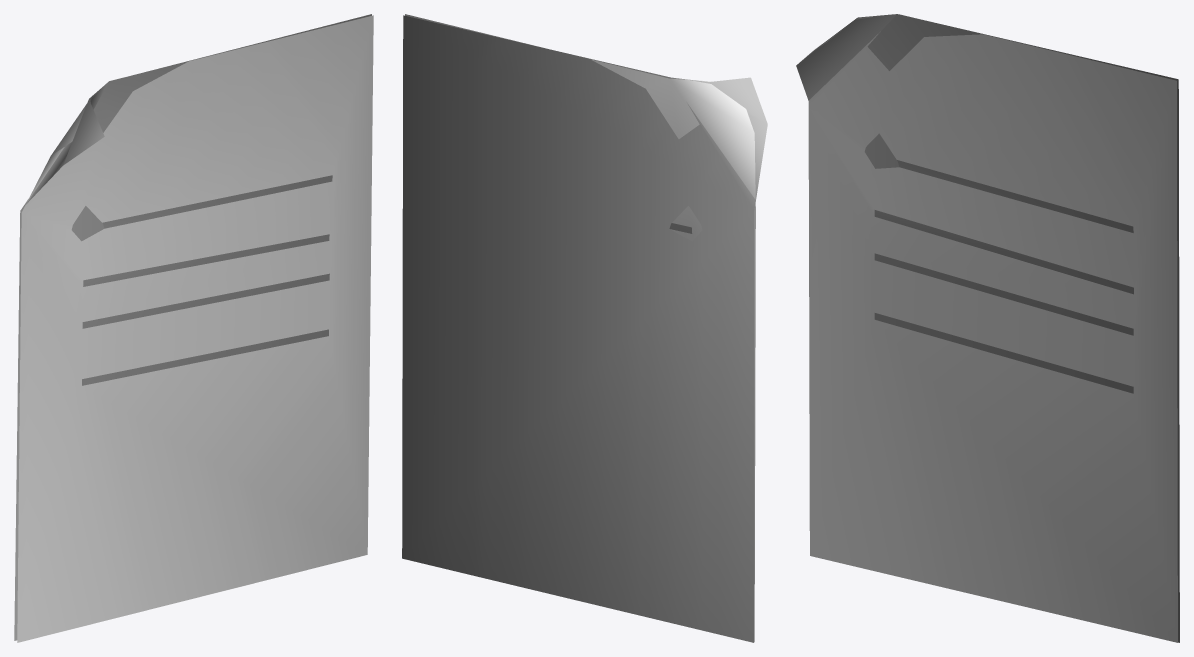
The model's file is CR_Paper_003.FBX.
3 views of the same model, side by side, from view 1: azimuth 30°, elevation 25°; view 2: azimuth 150°, elevation 25°; view 3: azimuth 330°, elevation 25° (orthographic). The views are drawn at different scales.
Parts seen in each view (by area): view 1: CR_Paper_003; view 2: CR_Paper_003; view 3: CR_Paper_003.
Part boxes in pixels (x1=…): CR_Paper_003: x1=14, y1=14, x2=373, y2=642; CR_Paper_003: x1=402, y1=14, x2=767, y2=642; CR_Paper_003: x1=796, y1=14, x2=1179, y2=642.
Size of the model in its own units: 13.5 by 19.74 by 2.94.
Materials: 1 (1 with a texture image).
